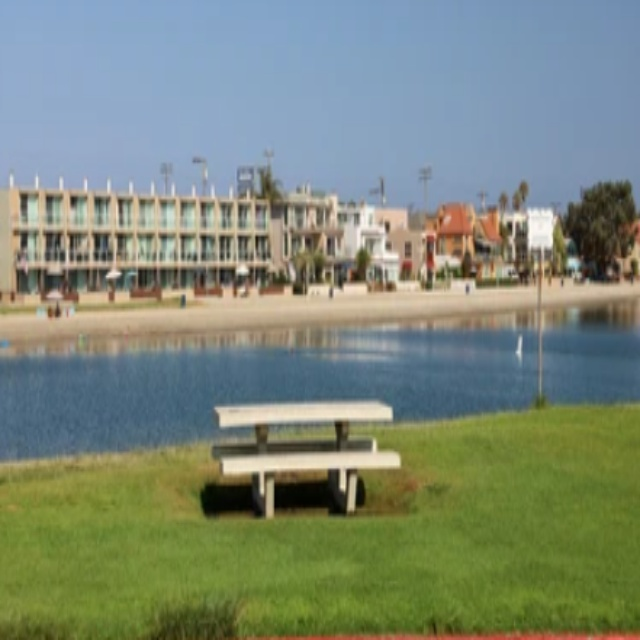obstacle: (206, 399, 403, 519)
